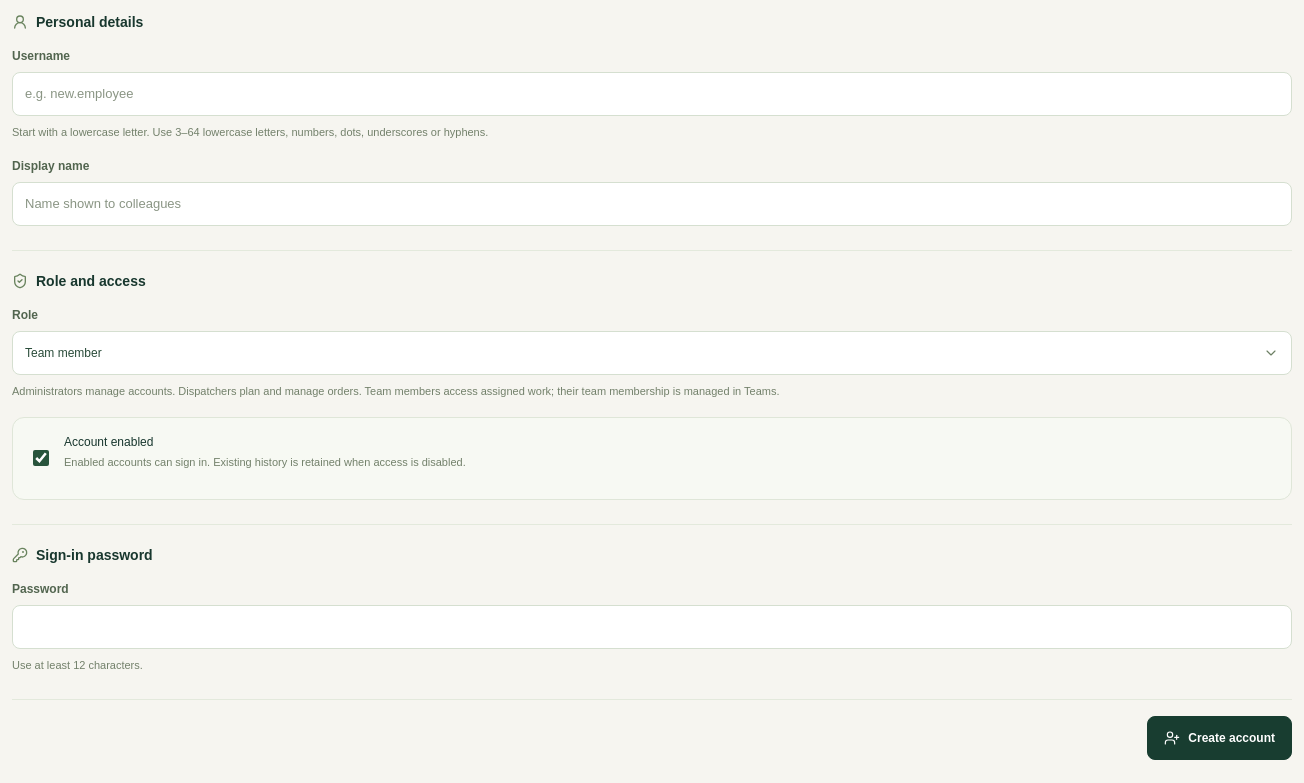
it: account form payloads and draft boundaries › creates an inactive personal account with the existing defaults and constraints
In the field labelled "Username": x=652, y=94 [12,72,1292,116], type "fixture.worker"
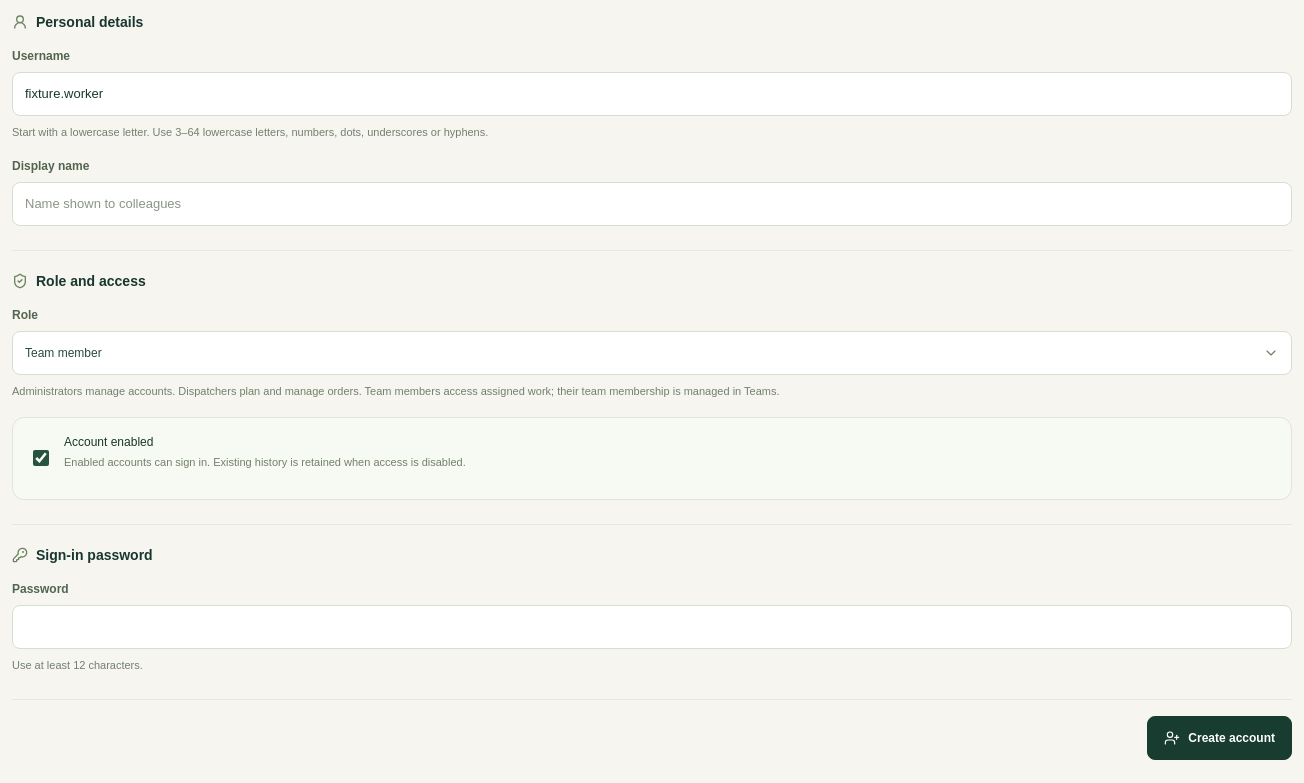
In the field labelled "Display name": x=652, y=204 [12,182,1292,226], type "  Fixture Worker  "
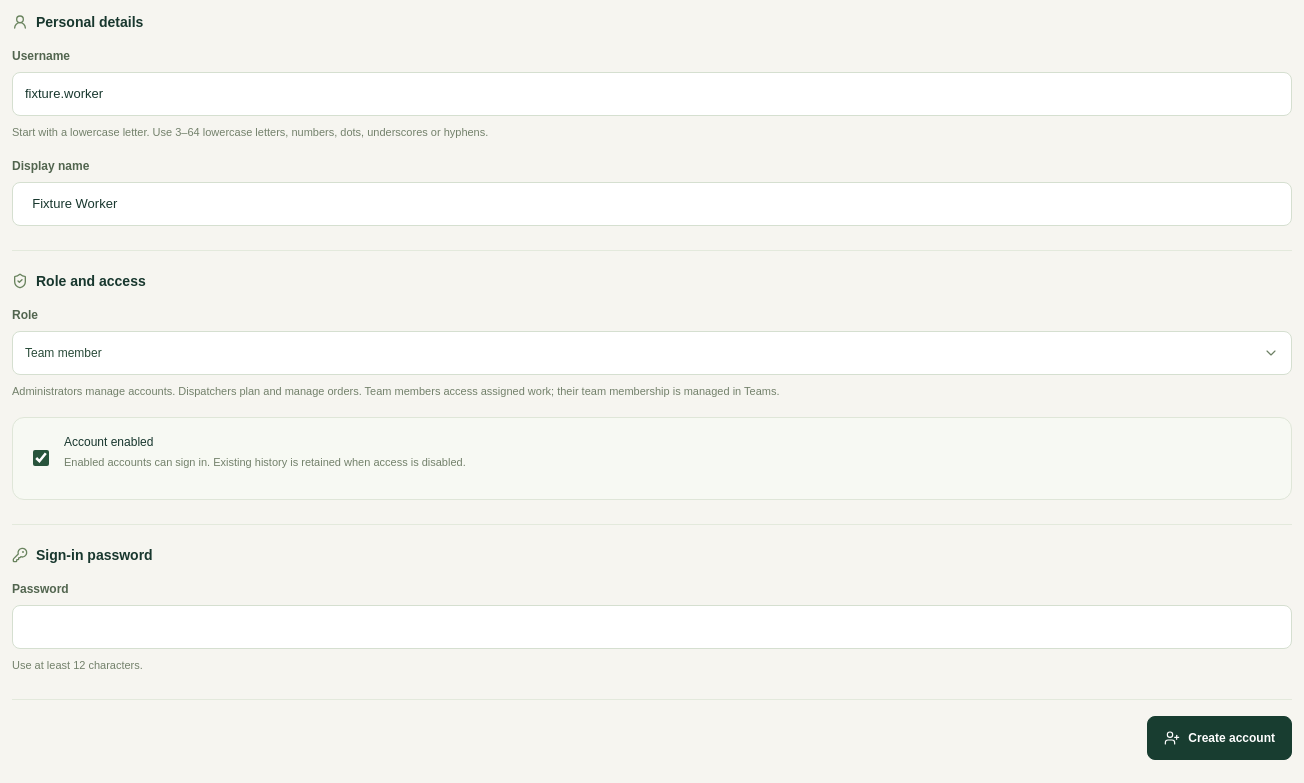
In the password field labelled "Password": x=652, y=627 [12,605,1292,649], type "test-only-long-password"
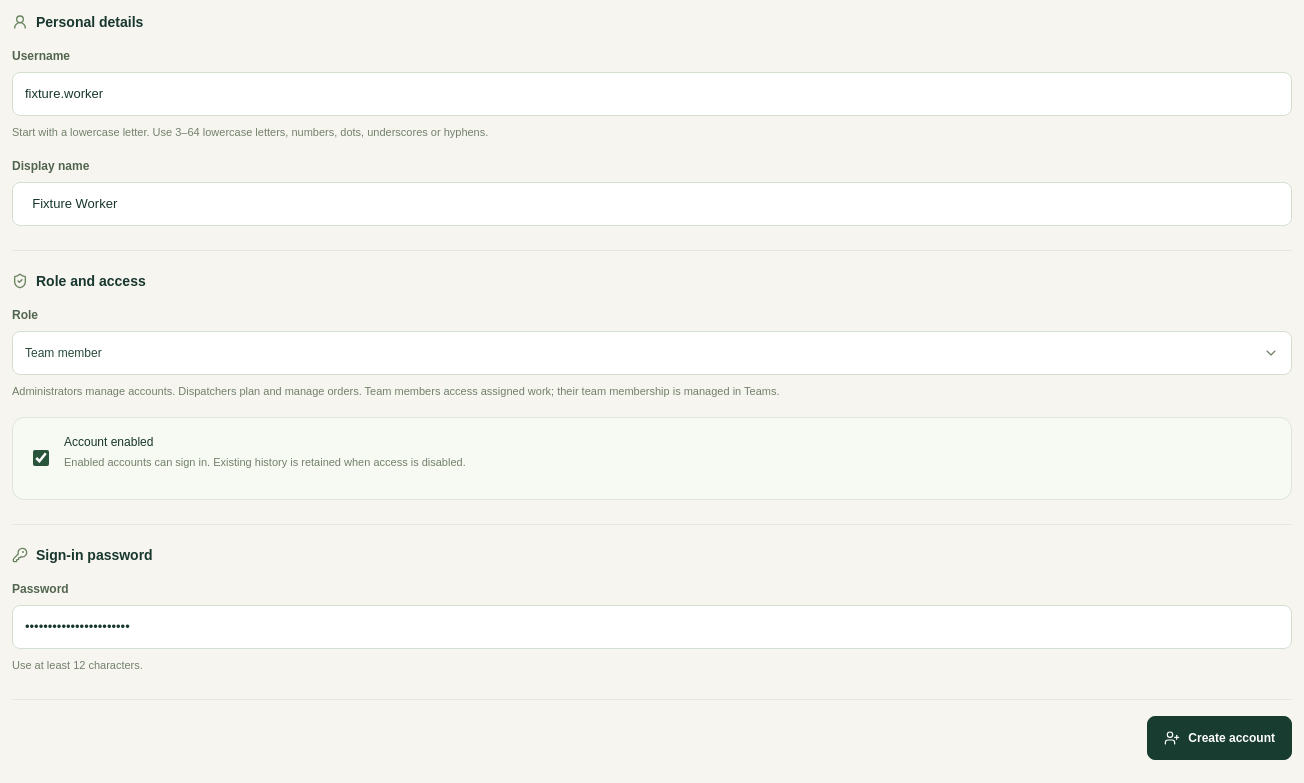
Click the checkbox labelled "Account enabled": x=41, y=458 [33,436,49,480]
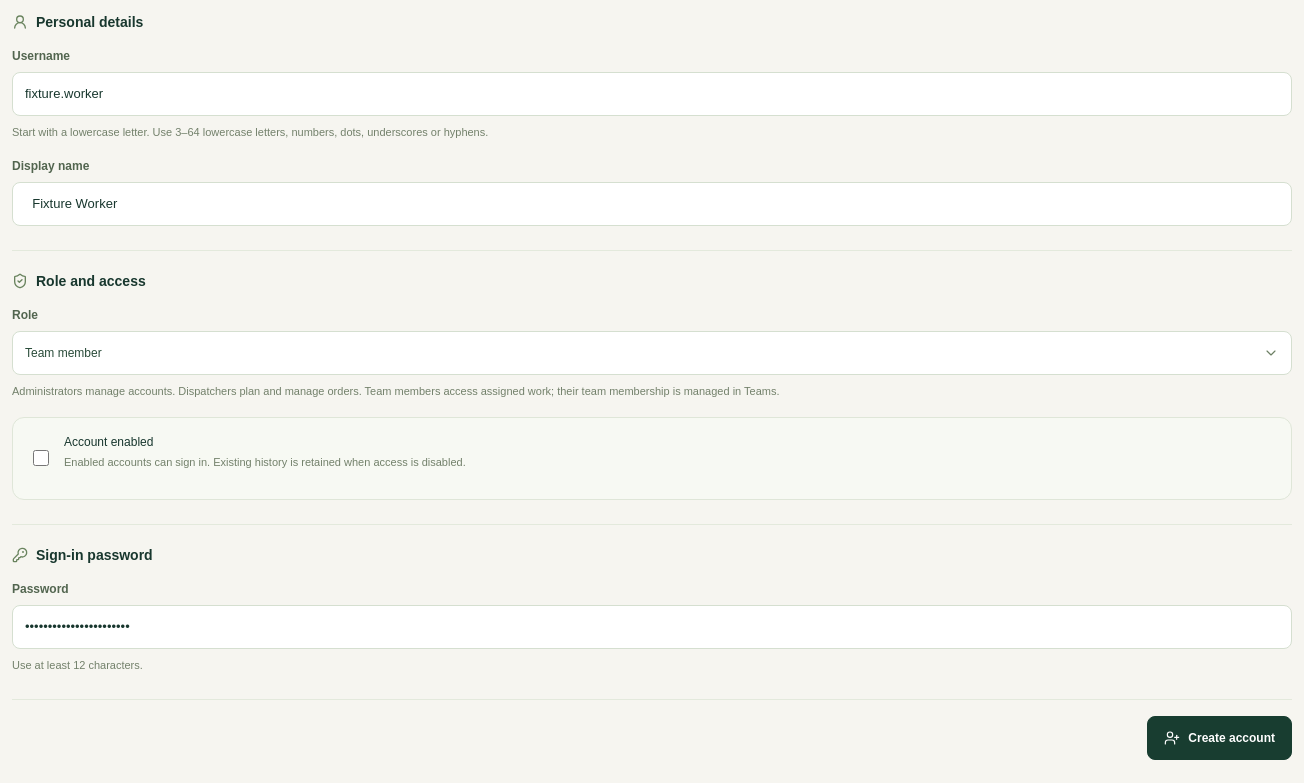
Submit the form named "Create account"
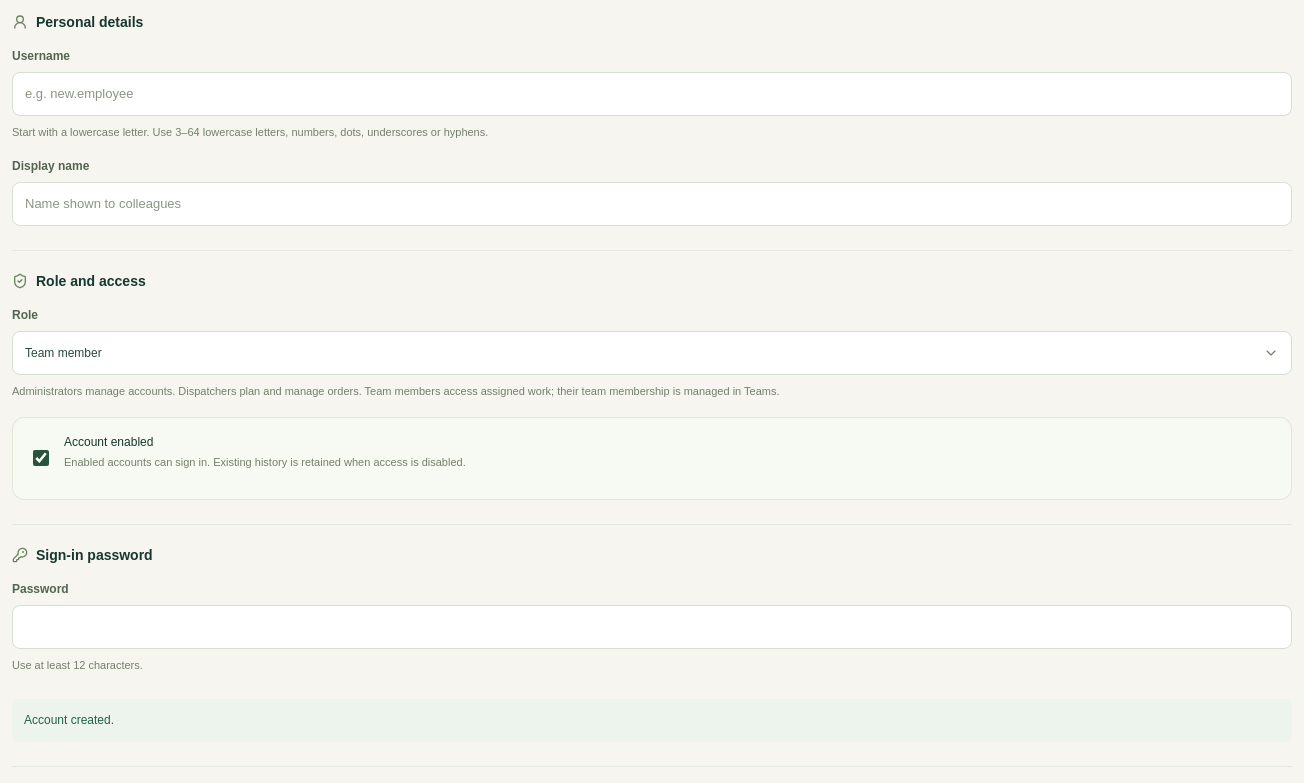
Expected: the text "Account created." is shown, [12,699,1292,742]
Expected: the password field labelled "Password" is empty, [12,605,1292,649]
Expected: the field labelled "Username" is empty, [12,72,1292,116]
